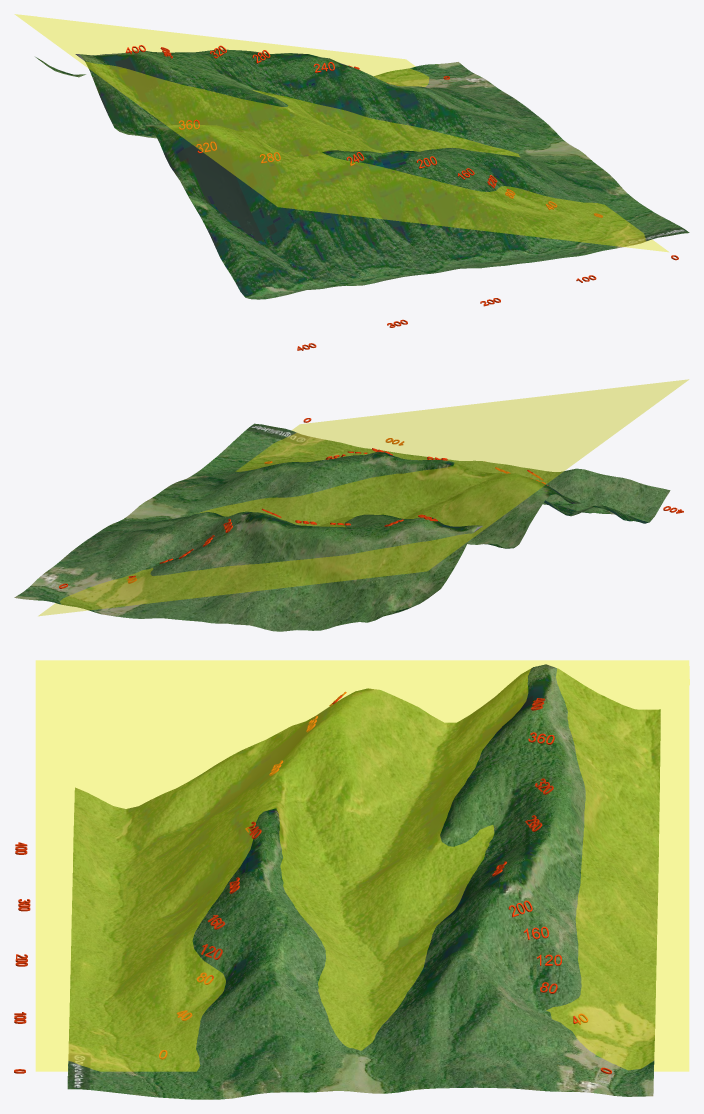
The model's file is RioRastro2b.gltf.
3 renders of one model, top to bottom at view 1: azimuth 30°, elevation 25°; view 2: azimuth 150°, elevation 25°; view 3: azimuth 270°, elevation 25°, orthographic. The views are drawn at different scales.
Visible parts, largest first — view 1: root; view 2: root; view 3: root.
Part boxes in pixels (x1,y1,x2,y2): root: (15,14,689,350); root: (14,379,688,631); root: (14,660,689,1099).
Bounding box in the file's own units: 2041 × 668 × 2243.
4 materials, 1 textured.
